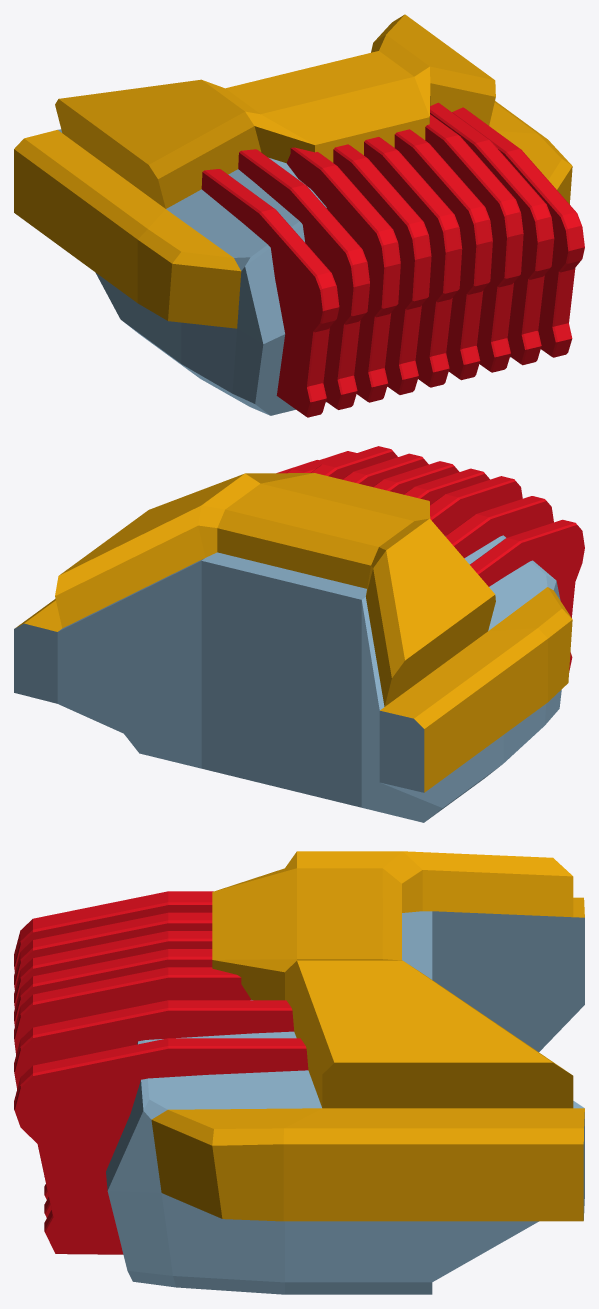
File: Mech_Radiator.fbx
3 views of the same model, one above another, from view 1: azimuth 30°, elevation 25°; view 2: azimuth 150°, elevation 25°; view 3: azimuth 270°, elevation 25° (orthographic). The views are drawn at different scales.
Parts seen in each view (by area): view 1: Cube; view 2: Cube; view 3: Cube.
Boxes of the visible parts, x1=… form: Cube: x1=14, y1=14, x2=584, y2=417; Cube: x1=14, y1=446, x2=584, y2=822; Cube: x1=14, y1=851, x2=584, y2=1294.
Bounding box in the file's own units: 531 × 311 × 528.
